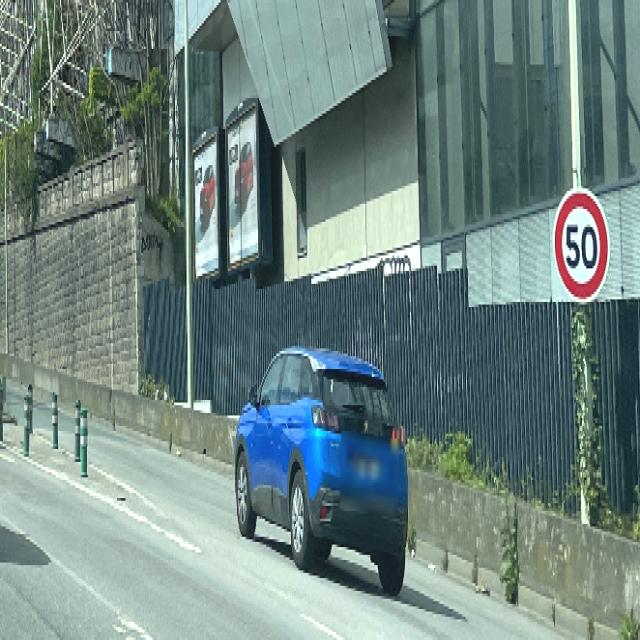speed_50: (552, 190, 610, 302)
